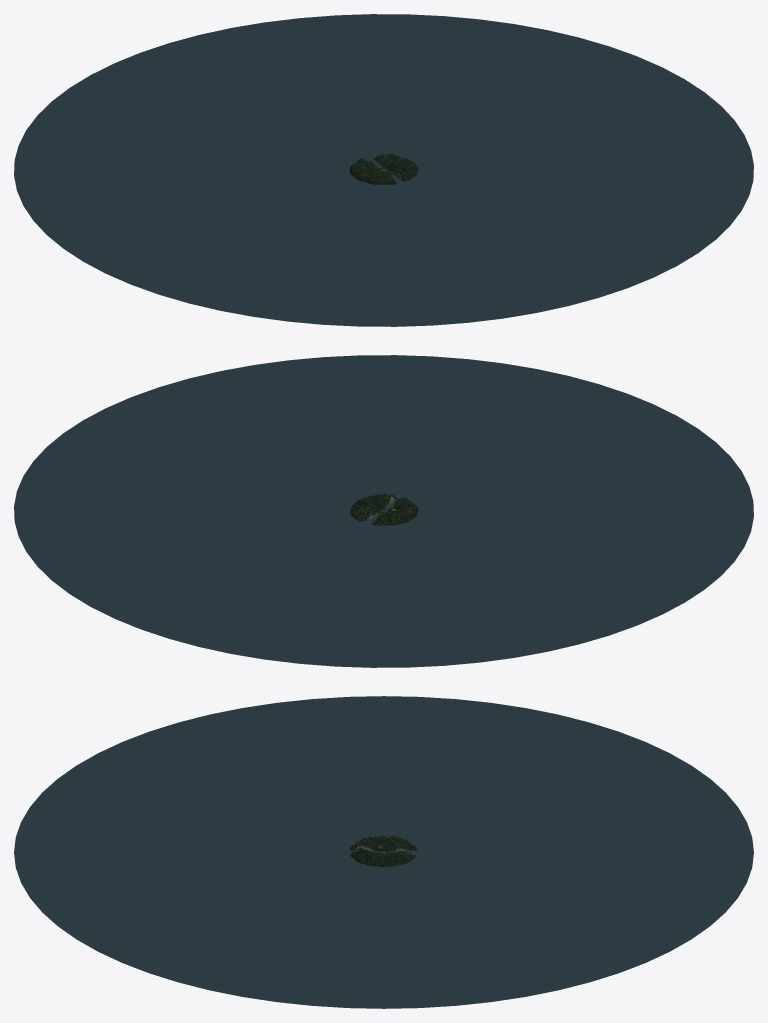
File: backdrop_near_c30_summer.glb
3 renders of one model, top to bottom at view 1: azimuth 30°, elevation 25°; view 2: azimuth 150°, elevation 25°; view 3: azimuth 270°, elevation 25°, orthographic.
Visible parts, largest first — view 1: water_S, water_N, water_W, water_E; view 2: water_N, water_S, water_W, water_E; view 3: water_E, water_N, water_S, water_W.
Part boxes in pixels (x1,y1,x2,y2): water_S: (288, 171, 741, 326); water_N: (26, 14, 479, 168); water_W: (14, 130, 383, 321); water_E: (384, 19, 753, 210); water_N: (26, 512, 479, 667); water_S: (288, 355, 741, 509); water_W: (384, 471, 753, 662); water_E: (14, 360, 383, 551); water_E: (123, 863, 644, 1008); water_N: (384, 742, 753, 962); water_S: (14, 742, 383, 962); water_W: (123, 696, 644, 841).
Bounding box in the file's own units: 6000 × 179 × 6000.
Materials: 5 (3 with a texture image).
